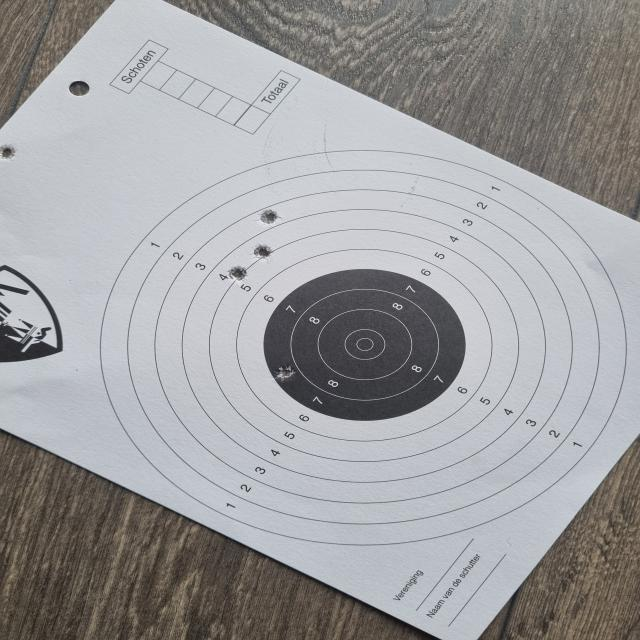0: (0, 144, 18, 159)
3: (260, 210, 281, 223)
5: (251, 245, 274, 259), (227, 266, 248, 281)
7: (274, 366, 295, 380)
Target: (105, 148, 628, 546)
black_contour: (264, 270, 466, 420)
